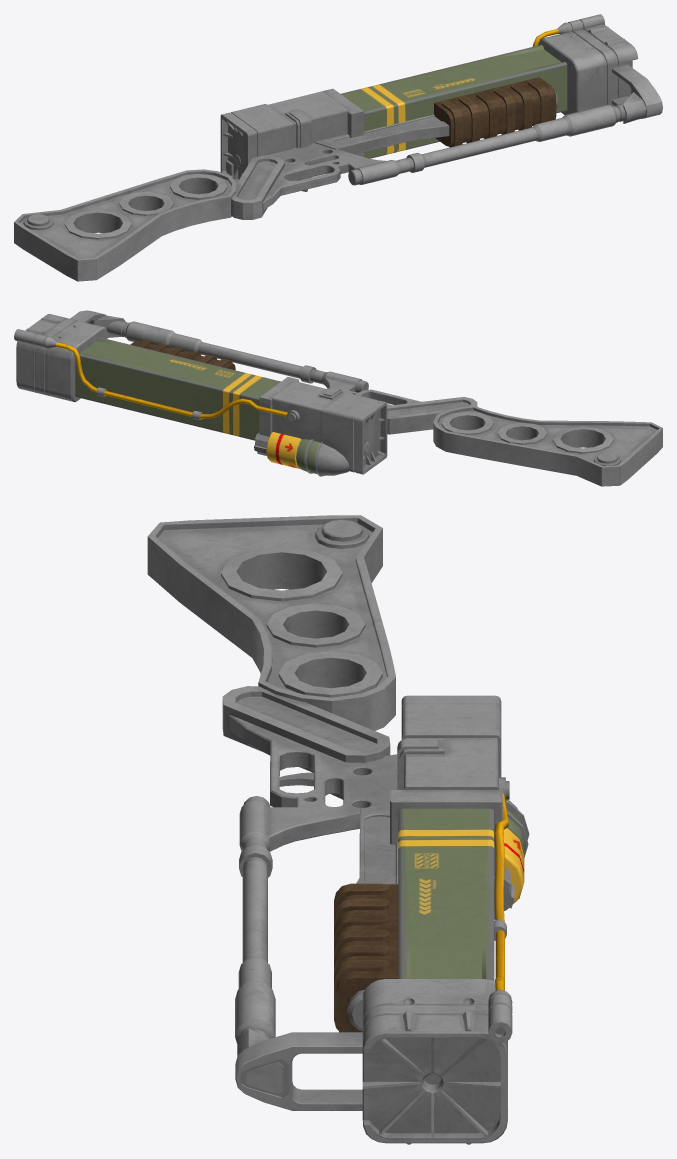
3 renders of one model, top to bottom at view 1: azimuth 30°, elevation 25°; view 2: azimuth 150°, elevation 25°; view 3: azimuth 270°, elevation 25°, orthographic. The views are drawn at different scales.
Visible parts, largest first — view 1: LaserRifle_phong2_0; view 2: LaserRifle_phong2_0; view 3: LaserRifle_phong2_0.
Boxes of the visible parts, <box> form: LaserRifle_phong2_0: <box>14,14,662,281</box>; LaserRifle_phong2_0: <box>14,310,662,486</box>; LaserRifle_phong2_0: <box>147,515,529,1144</box>.
Size of the model in its own units: 0.6311 by 0.078 by 0.1834.
1 material, 1 textured.
